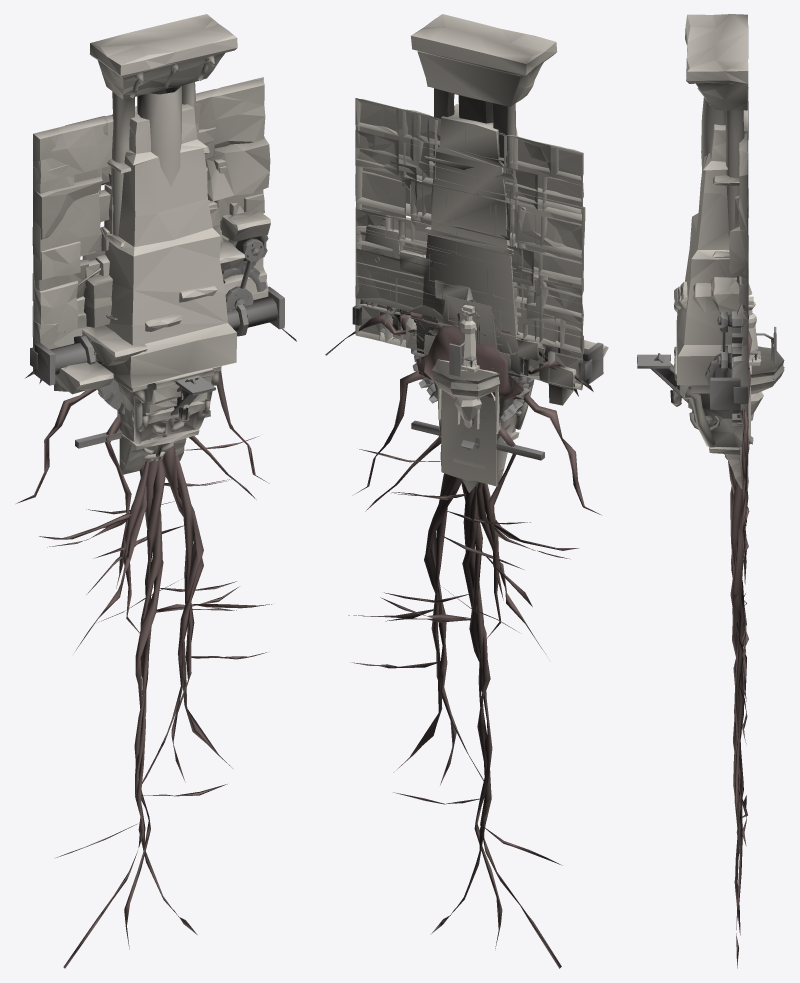
File: ch1_env_kit_hi.glb
The picture shows the model from 3 angles, left to right: view 1: azimuth 30°, elevation 25°; view 2: azimuth 150°, elevation 25°; view 3: azimuth 270°, elevation 25°; orthographic projection.
Parts seen in each view (by area): view 1: ch1_env_buttress_lo, ch1_env_wall_c, ch1_env_column_cluster, ch1_env_wall_a, ch1_env_root_c, ch1_env_stair_fragment, ch1_env_root_b, ch1_env_corbel_hero, ch1_env_wall_b, ch1_env_pipe_run, ch1_env_geartrain, ch1_env_capital (+3 smaller); view 2: ch1_env_wall_b, ch1_env_buttress_lo, ch1_env_wall_c, ch1_env_column_cluster, ch1_env_wall_a, ch1_env_root_c, ch1_env_growth, ch1_env_root_b, ch1_env_corbel_hero, ch1_env_stair_fragment, ch1_env_boss, ch1_env_root_a (+6 smaller); view 3: ch1_env_column_cluster, ch1_env_buttress_lo, ch1_env_root_b, ch1_env_capital, ch1_env_root_c, ch1_env_stair_fragment, ch1_env_pipe_run, ch1_env_wall_a, ch1_env_boss, ch1_env_wall_c, ch1_env_geartrain, ch1_env_growth (+4 smaller).
Boxes of the visible parts, x1,y1,x2,y2 form: ch1_env_buttress_lo: [101, 104, 236, 388]; ch1_env_wall_c: [33, 80, 270, 335]; ch1_env_column_cluster: [90, 14, 237, 247]; ch1_env_wall_a: [32, 79, 268, 374]; ch1_env_root_c: [56, 450, 239, 968]; ch1_env_stair_fragment: [54, 210, 270, 394]; ch1_env_root_b: [86, 436, 271, 794]; ch1_env_corbel_hero: [119, 368, 213, 474]; ch1_env_wall_b: [32, 77, 264, 336]; ch1_env_pipe_run: [30, 286, 284, 385]; ch1_env_geartrain: [75, 235, 268, 448]; ch1_env_capital: [113, 366, 221, 450]; ch1_env_wall_b: [355, 98, 583, 390]; ch1_env_buttress_lo: [416, 104, 538, 377]; ch1_env_wall_c: [355, 98, 585, 389]; ch1_env_column_cluster: [411, 14, 557, 375]; ch1_env_wall_a: [355, 98, 584, 389]; ch1_env_root_c: [380, 355, 561, 968]; ch1_env_growth: [325, 311, 601, 600]; ch1_env_root_b: [348, 449, 530, 794]; ch1_env_corbel_hero: [440, 389, 522, 486]; ch1_env_stair_fragment: [365, 217, 608, 405]; ch1_env_boss: [432, 359, 500, 428]; ch1_env_root_a: [388, 417, 579, 653]; ch1_env_column_cluster: [685, 14, 748, 257]; ch1_env_buttress_lo: [676, 110, 747, 385]; ch1_env_root_b: [728, 460, 748, 832]; ch1_env_capital: [683, 385, 748, 454]; ch1_env_root_c: [730, 486, 748, 968]; ch1_env_stair_fragment: [674, 277, 740, 313]; ch1_env_pipe_run: [705, 352, 747, 410]; ch1_env_wall_a: [731, 96, 748, 412]; ch1_env_boss: [750, 346, 784, 420]; ch1_env_wall_c: [729, 81, 748, 406]; ch1_env_geartrain: [717, 311, 748, 466]; ch1_env_growth: [739, 329, 752, 584].
Bounding box in the file's own units: 4.8 × 14.9 × 2.21.
